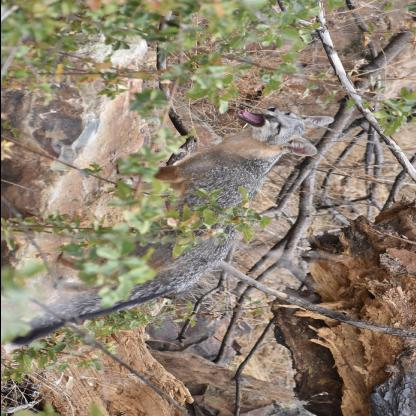zorro: (9, 98, 337, 354)
